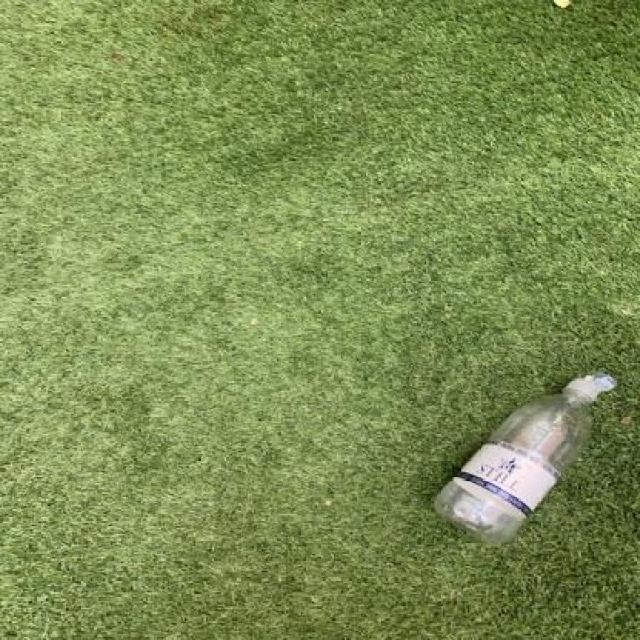trash: (434, 364, 618, 550)
